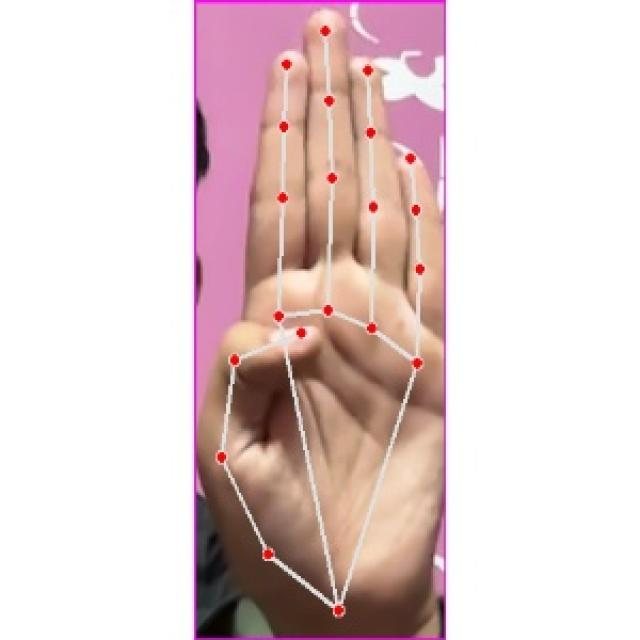B: (200, 0, 443, 629)
